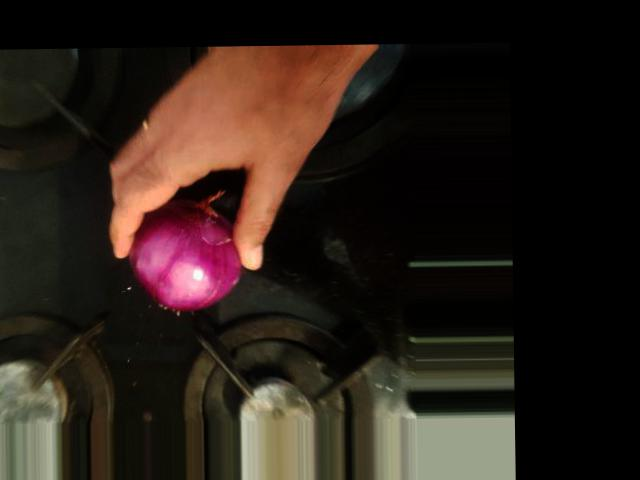onion: (123, 197, 248, 310)
